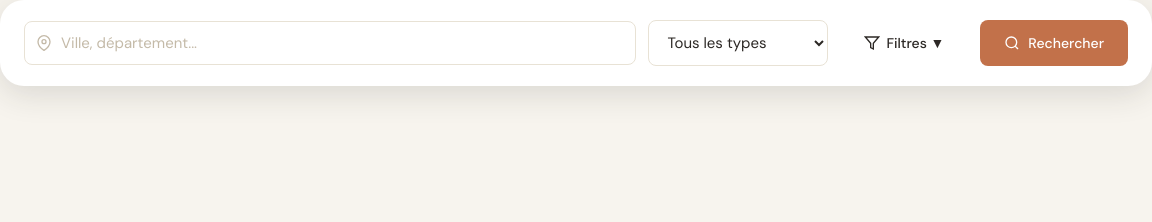
Test: SearchBar › affiche les filtres avancés au clic
Click the button "Filtres ▼" at (904, 43), box [840,20,968,66]
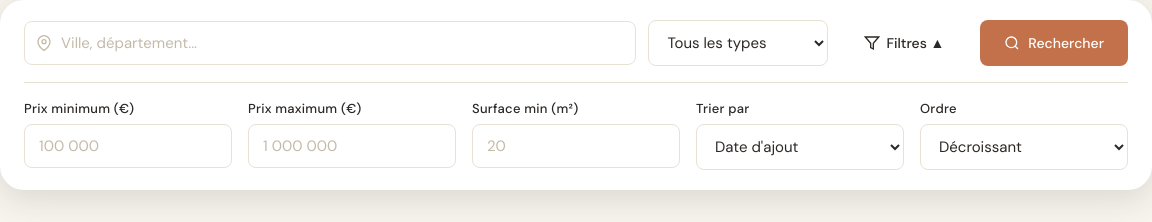
Expected: the number field labelled "Prix minimum (€)" is shown, [24,124,232,168]
